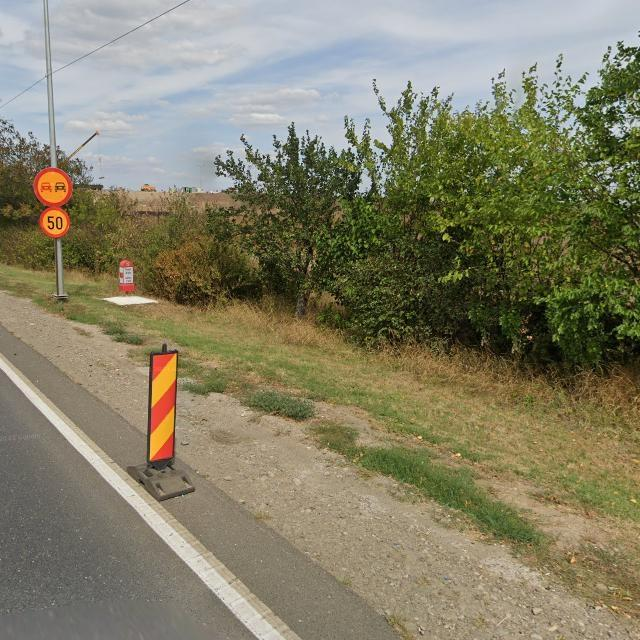forb_overtake: (33, 168, 73, 207)
forb_speed_over_50: (39, 207, 70, 238)
